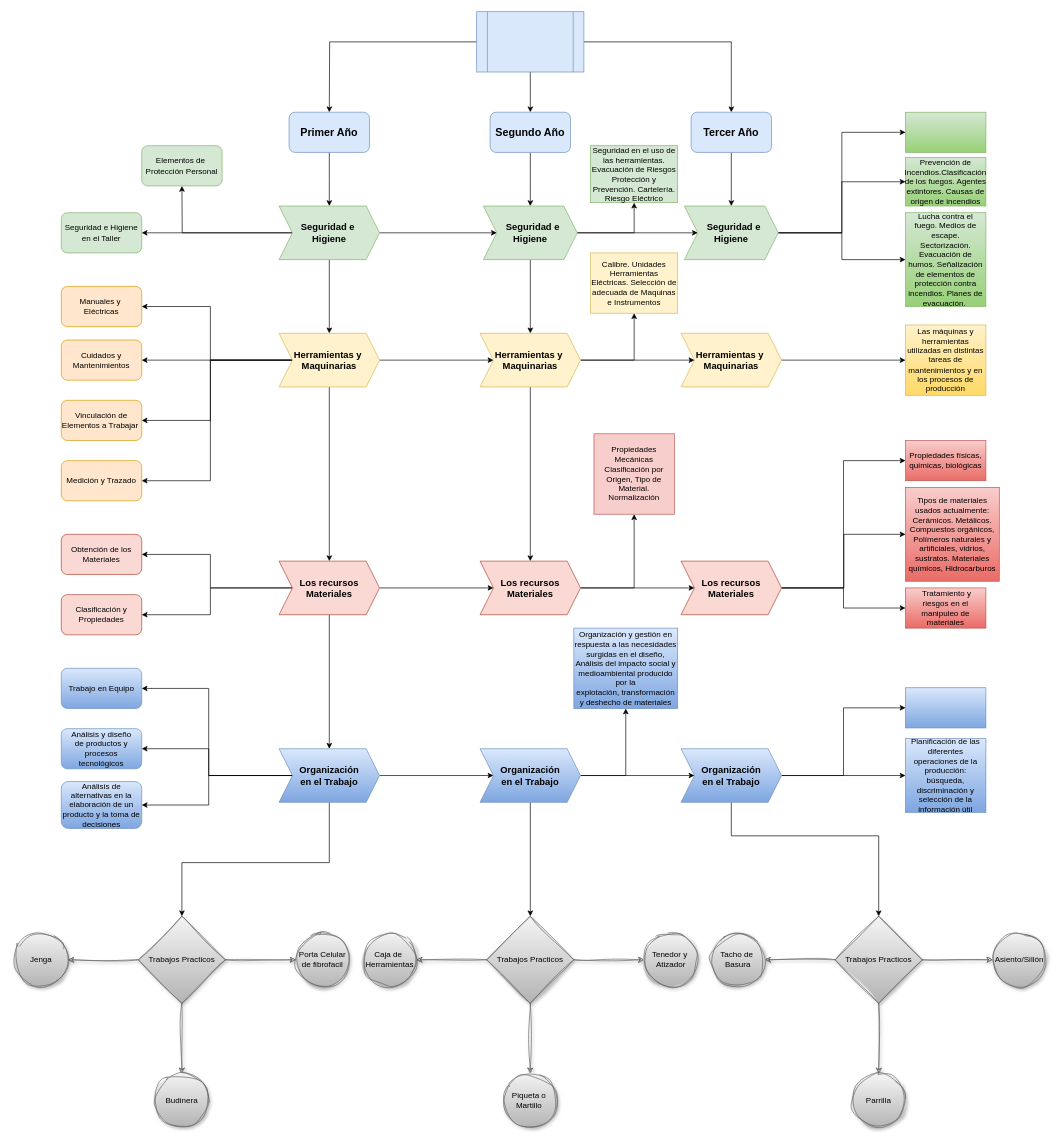
This 1062x1144 diagram has some shape labels left out. The shapes that lost their labels are listed below. From the top down, each one's centre as x and y in pixels, then its label:
At (530,41): "Procedimientos Técnicos".
At (945,132): "Peligros generados por las máquinas y herramientas".
At (945,707): "Acuerdos en la distribución de responsabilidades".
